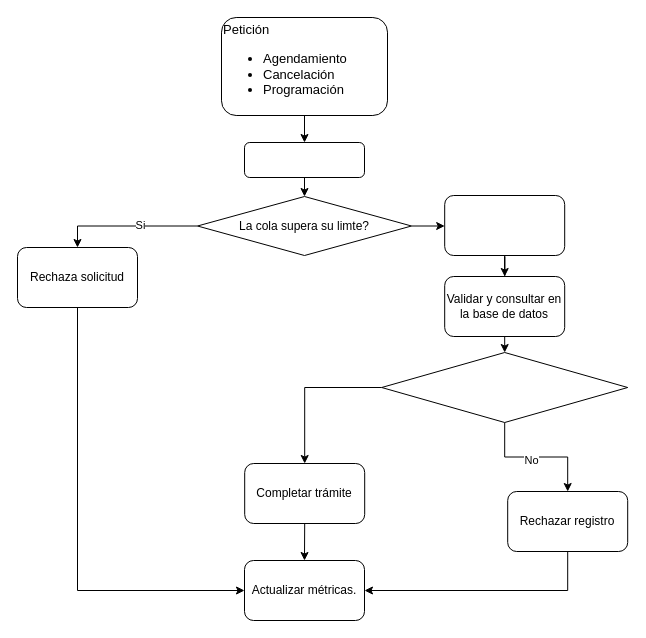
Some shapes in this 646 by 638 pixel diagram are drawn without their labels. Here are the shapes that lost their labels. From the top down, the centre of each, then its label:
At (304,160): "Gestor de peticiones API".
At (504,225): "Cola FIFO".
At (504,387): "Operación valida y con capacidad?".
